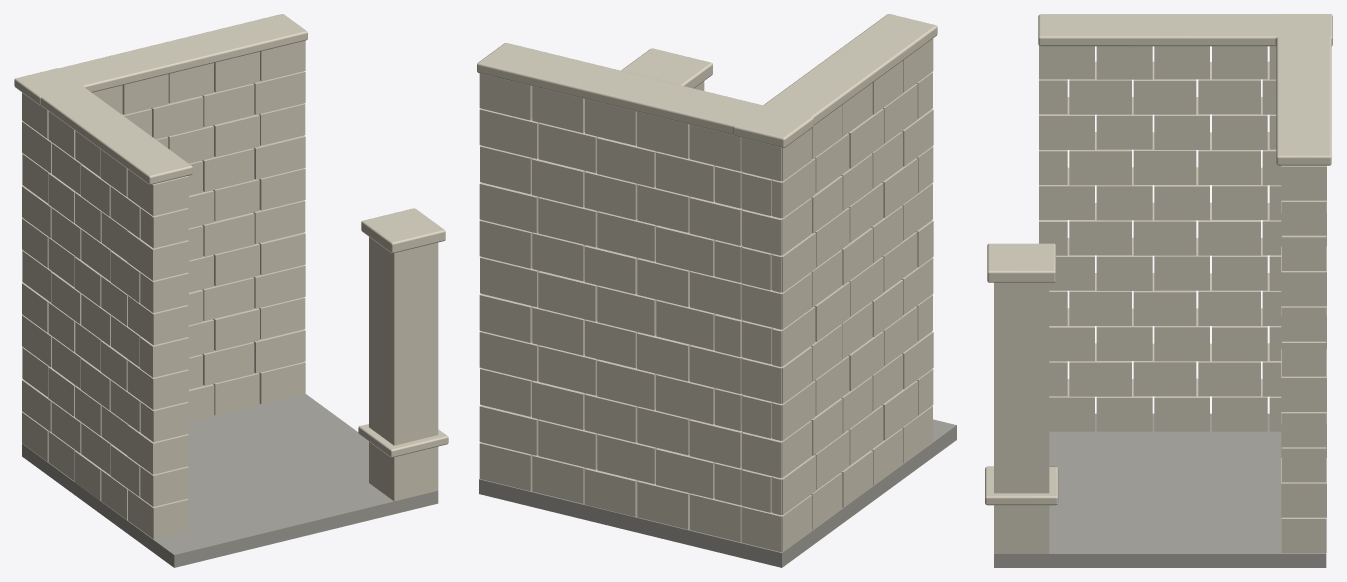
The model's file is cloister-arcade-corner.glb.
The picture shows the model from 3 angles, left to right: view 1: azimuth 30°, elevation 25°; view 2: azimuth 150°, elevation 25°; view 3: azimuth 270°, elevation 25°; orthographic projection. The views are drawn at different scales.
Visible parts, largest first — view 1: cloister-arcade-corner; view 2: cloister-arcade-corner; view 3: cloister-arcade-corner.
Boxes of the visible parts, bbox=[...] form: cloister-arcade-corner: bbox=[14, 14, 448, 567]; cloister-arcade-corner: bbox=[477, 14, 956, 567]; cloister-arcade-corner: bbox=[985, 14, 1332, 567].
Bounding box in the file's own units: 3.14 × 4.1 × 3.14.
